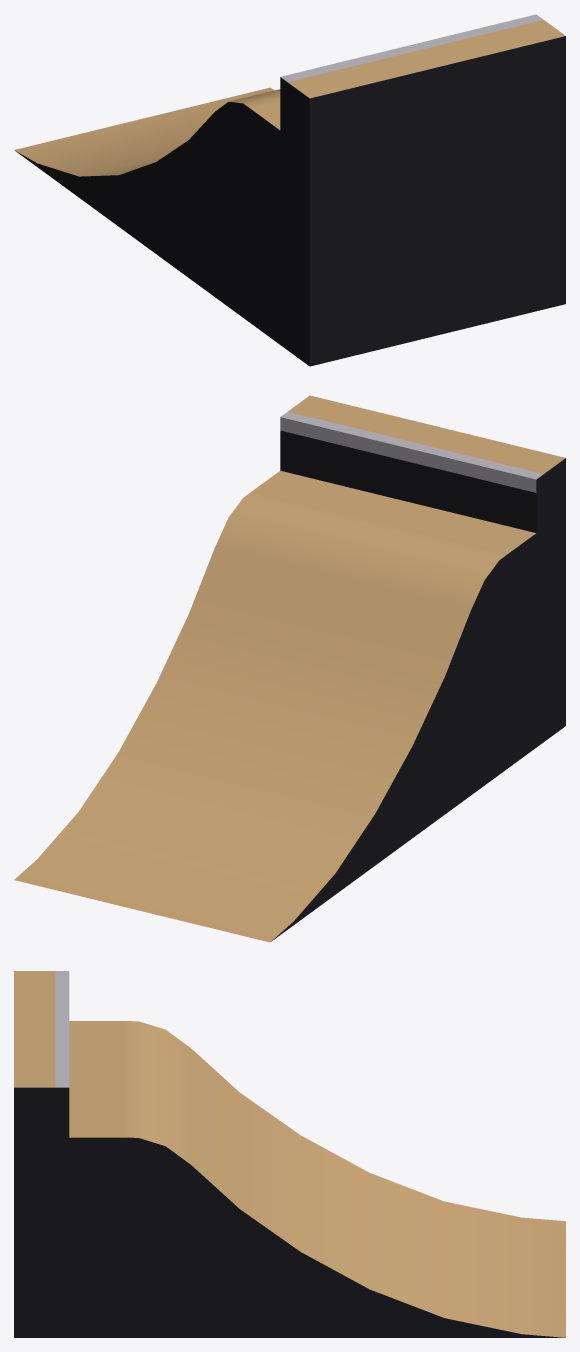
Rendered from Quater_SML_EuroGap_Half.fbx.
The picture shows the model from 3 angles, top to bottom: view 1: azimuth 30°, elevation 25°; view 2: azimuth 150°, elevation 25°; view 3: azimuth 270°, elevation 25°; orthographic projection. The views are drawn at different scales.
Visible parts, largest first — view 1: Quater_SML_EuroGap_Half; view 2: Quater_SML_EuroGap_Half; view 3: Quater_SML_EuroGap_Half.
Boxes of the visible parts, x1,y1,x2,y2 form: Quater_SML_EuroGap_Half: [14, 14, 565, 366]; Quater_SML_EuroGap_Half: [14, 395, 565, 942]; Quater_SML_EuroGap_Half: [14, 971, 565, 1337].
Size of the model in its own units: 5 by 5 by 10.
